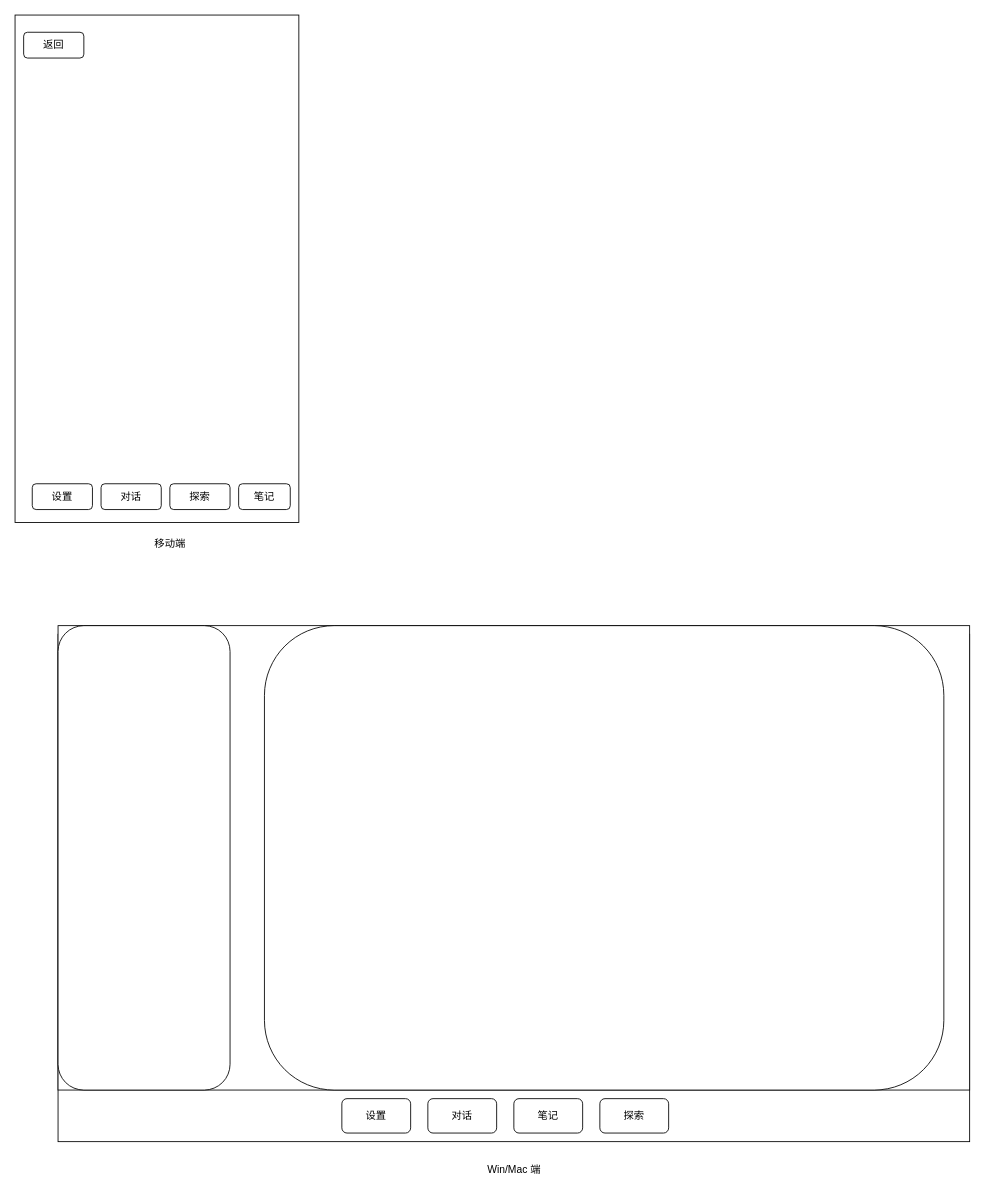
This 985x1198 diagram has some shape labels left out. Each missing label, with the centre of its shape:
工作区: [604,857]
工作栏: [143,857]
